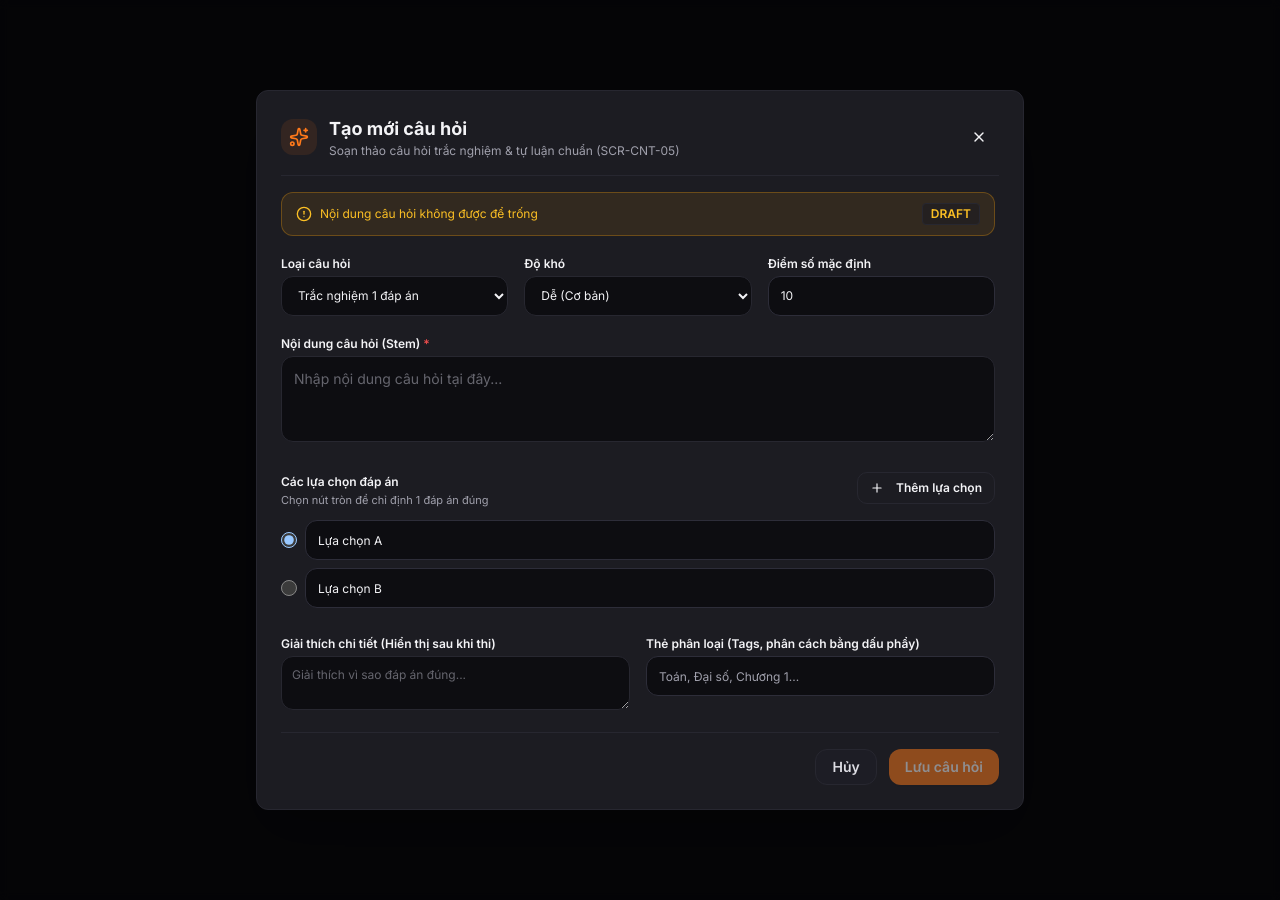
Scenario: T-S7-FE-01: Question Bank & Quiz Authoring Suite › QuestionEditorModal: shows DRAFT when stem is empty and switches to READY when valid
Expected: the heading "Tạo mới câu hỏi" is shown, top-left (329, 118), bottom-right (467, 139)
Expected: the text "DRAFT" is shown, top-left (922, 203), bottom-right (980, 225)
# Type stem
Type "Thủ đô của Việt Nam là gì?" into the text box with placeholder "Nhập nội dung câu hỏi tại đây..." at (638, 399), box top-left (281, 356), bottom-right (995, 442)
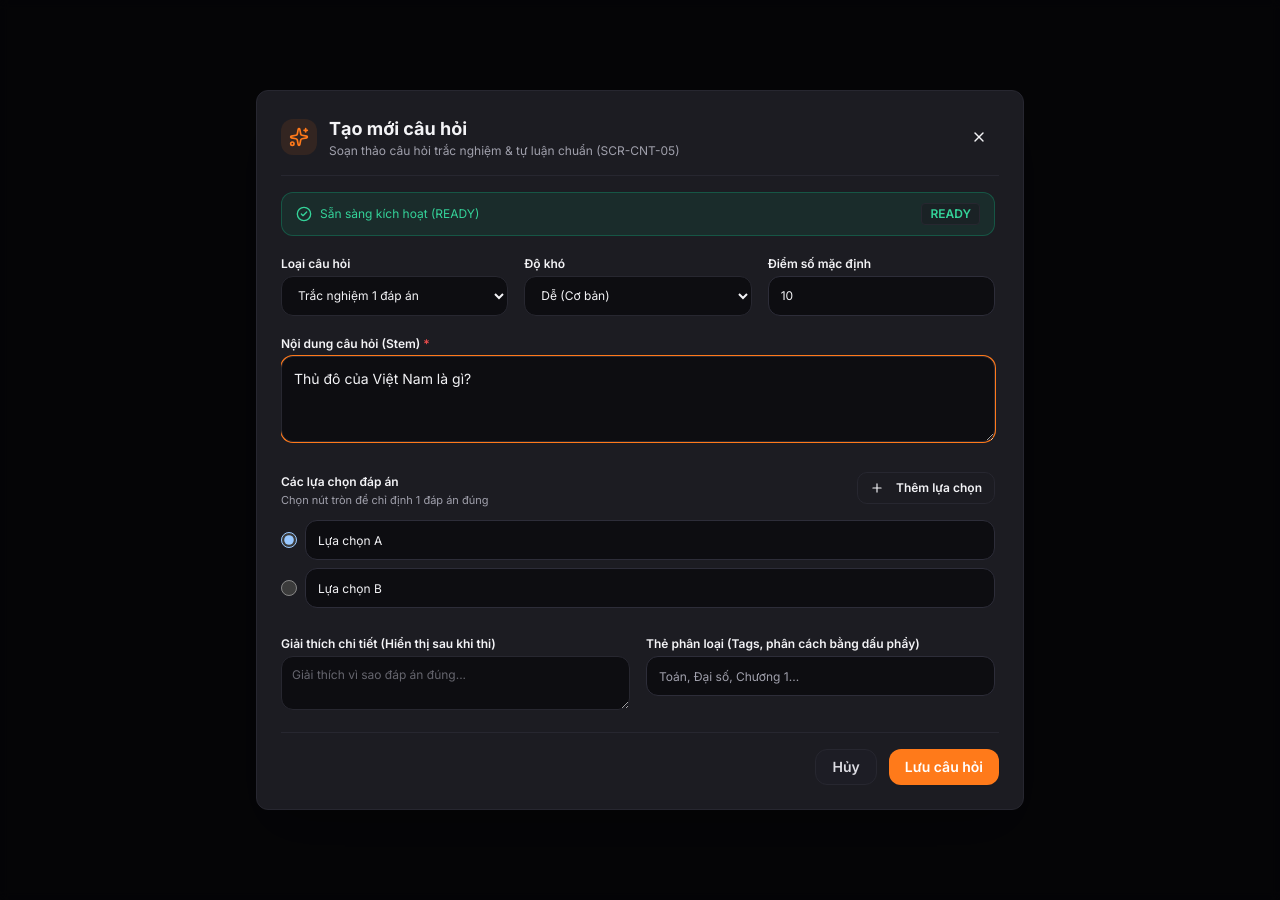
Expected: the text "READY" is shown, top-left (921, 203), bottom-right (980, 225)
